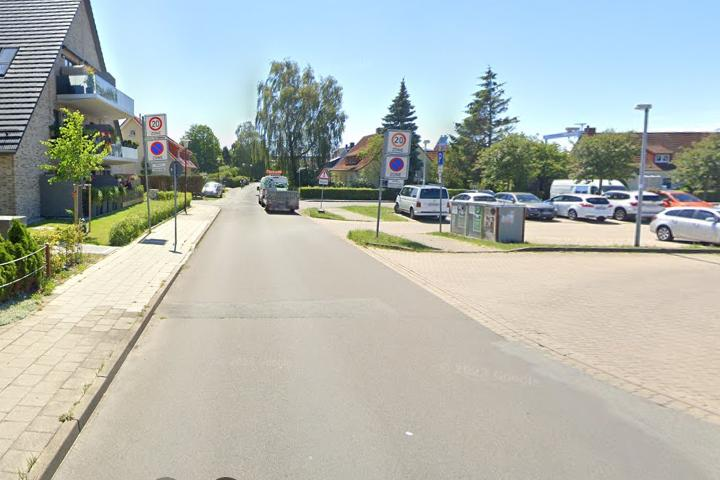traffic_sign: (388, 157, 405, 173), (391, 131, 407, 146), (150, 141, 165, 156), (149, 117, 162, 131), (317, 168, 330, 179)
vehicle: (581, 187, 668, 226), (391, 182, 455, 225), (535, 192, 619, 222), (483, 189, 558, 221)
